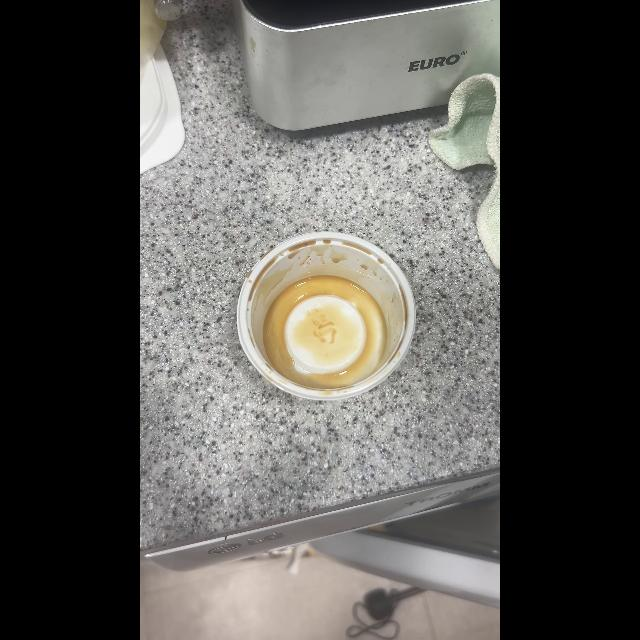dirty: (244, 234, 408, 402)
